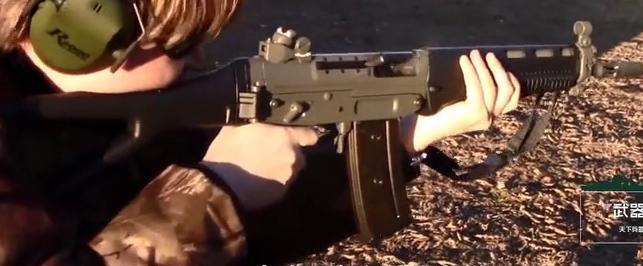gun: (1, 0, 643, 266)
